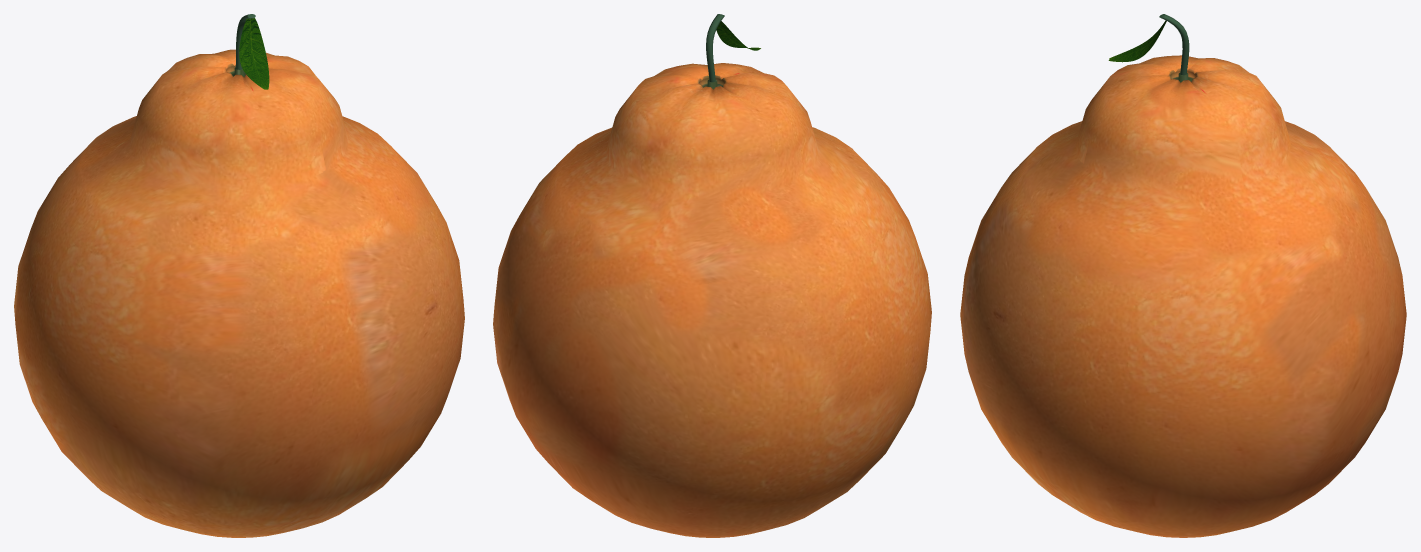
Rendered from hanrabong.gltf.
3 renders of one model, left to right at view 1: azimuth 30°, elevation 25°; view 2: azimuth 150°, elevation 25°; view 3: azimuth 270°, elevation 25°, orthographic. The views are drawn at different scales.
Parts seen in each view (by area): view 1: Sphere, leaf1.013; view 2: Sphere, BezierCurve; view 3: Sphere, leaf1.013.
Boxes of the visible parts, x1,y1,x2,y2 form: Sphere: (14, 49, 464, 537); leaf1.013: (239, 18, 269, 89); Sphere: (493, 63, 931, 537); BezierCurve: (706, 14, 724, 82); Sphere: (960, 55, 1406, 537); leaf1.013: (1108, 20, 1166, 62).
Bounding box in the file's own units: 2 × 2.49 × 2.
Materials: 3 (2 with a texture image).
